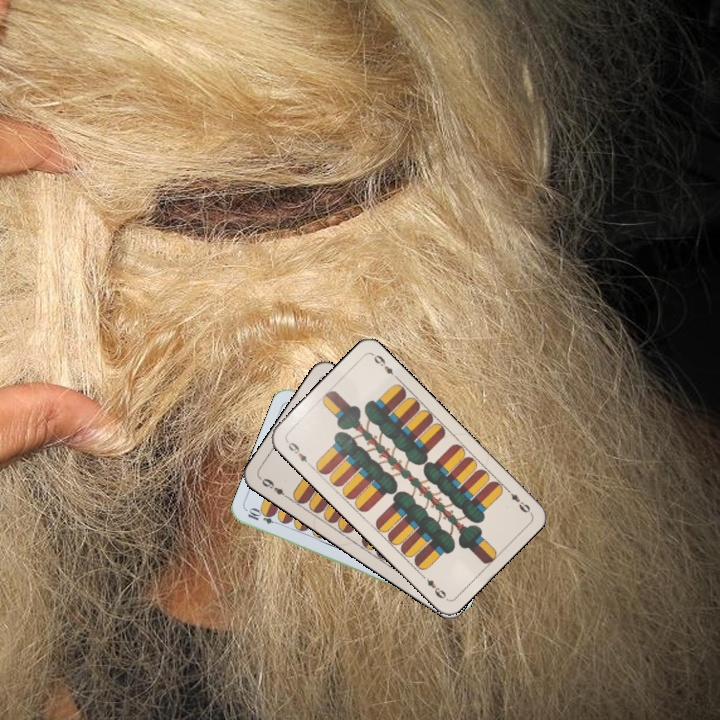E10: (244, 505, 284, 528)
E9: (501, 484, 533, 515), (257, 474, 292, 502), (282, 437, 310, 465)
